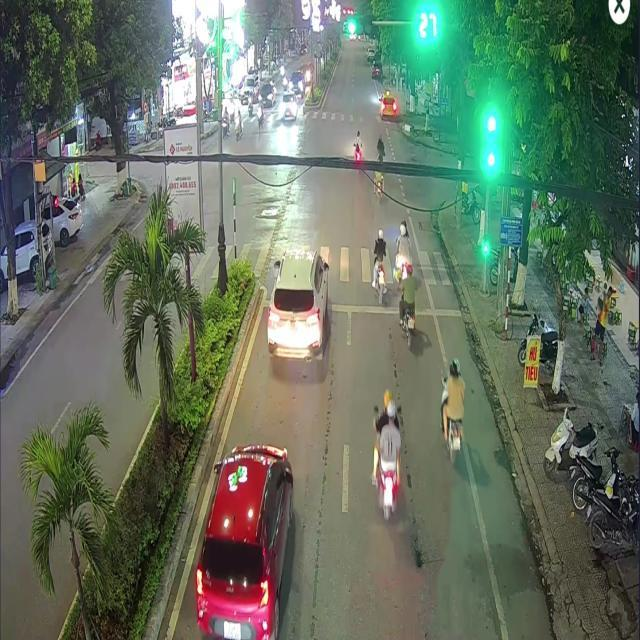car: (194, 444, 293, 638), (267, 247, 328, 358)
green_light: (484, 110, 498, 172), (345, 13, 372, 38)
motobike: (437, 349, 470, 472), (371, 389, 400, 518), (399, 265, 418, 350), (371, 224, 387, 307)
stop_line: (262, 299, 460, 316)
